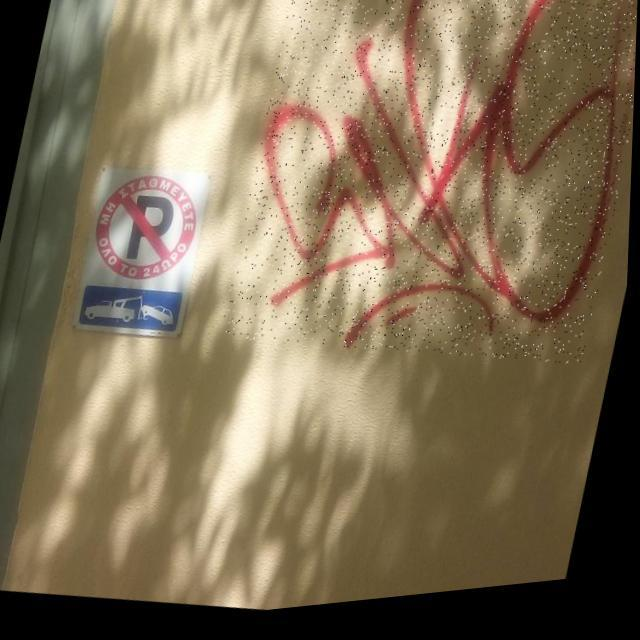-: (220, 0, 640, 407)
